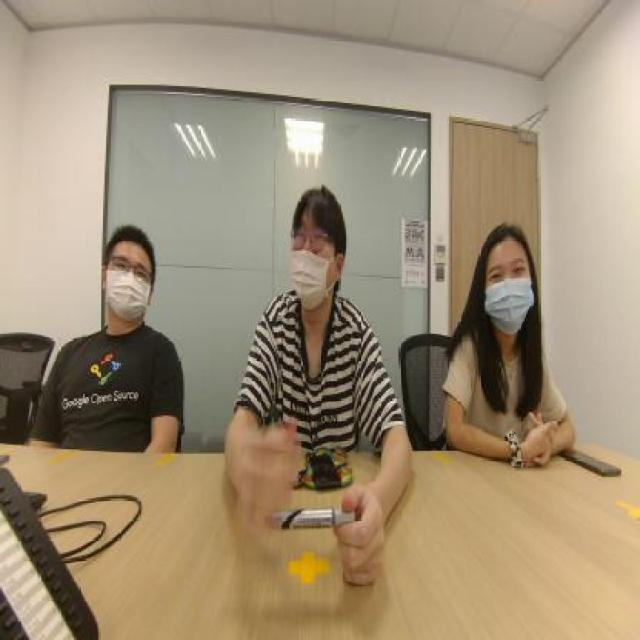Person: (32, 200, 200, 452), (238, 169, 388, 448), (436, 209, 564, 457)
